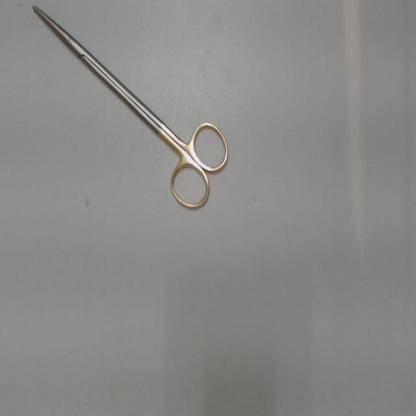7 Metzenbaum Scissors: (30, 1, 233, 215)
